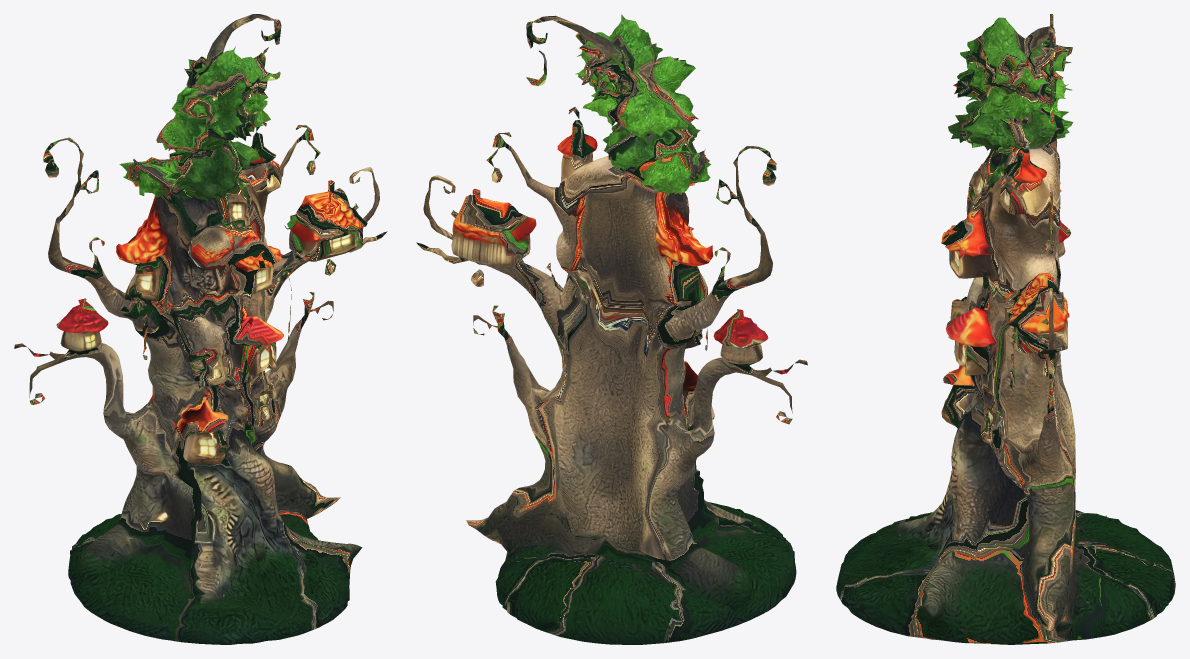
File: treehouse.glb
3 views of the same model, side by side, from view 1: azimuth 30°, elevation 25°; view 2: azimuth 150°, elevation 25°; view 3: azimuth 270°, elevation 25° (orthographic). The views are drawn at different scales.
Parts seen in each view (by area): view 1: model_LOD4; view 2: model_LOD4; view 3: model_LOD4.
Part boxes in pixels (x1,y1,x2,y2): model_LOD4: (14, 14, 387, 644); model_LOD4: (416, 14, 807, 644); model_LOD4: (836, 14, 1175, 644).
Bounding box in the file's own units: 3.99 × 5.5 × 2.87.
1 material, 1 textured.
